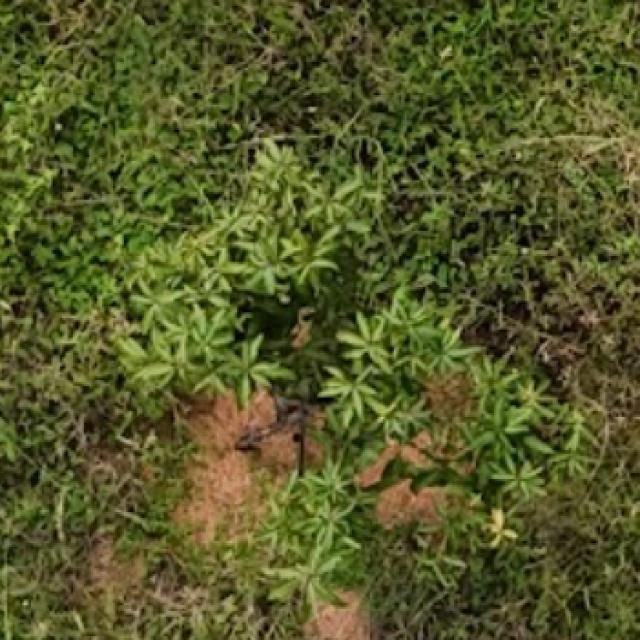mangoTree: (108, 137, 588, 624)
